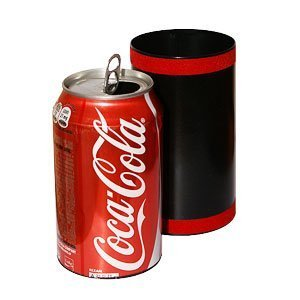coke: (54, 66, 163, 275)
